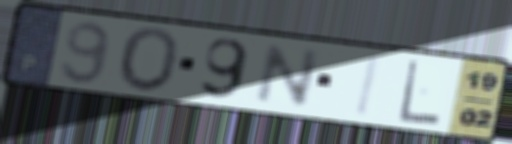9: (57, 19, 114, 85), (197, 36, 251, 101)
I: (352, 52, 386, 120)
L: (396, 57, 443, 127)
N: (250, 42, 327, 110)
O: (116, 25, 183, 95)
